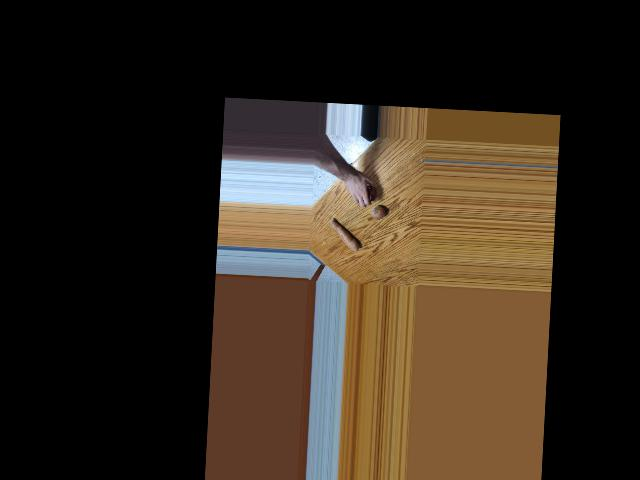onion: (361, 186, 376, 201)
